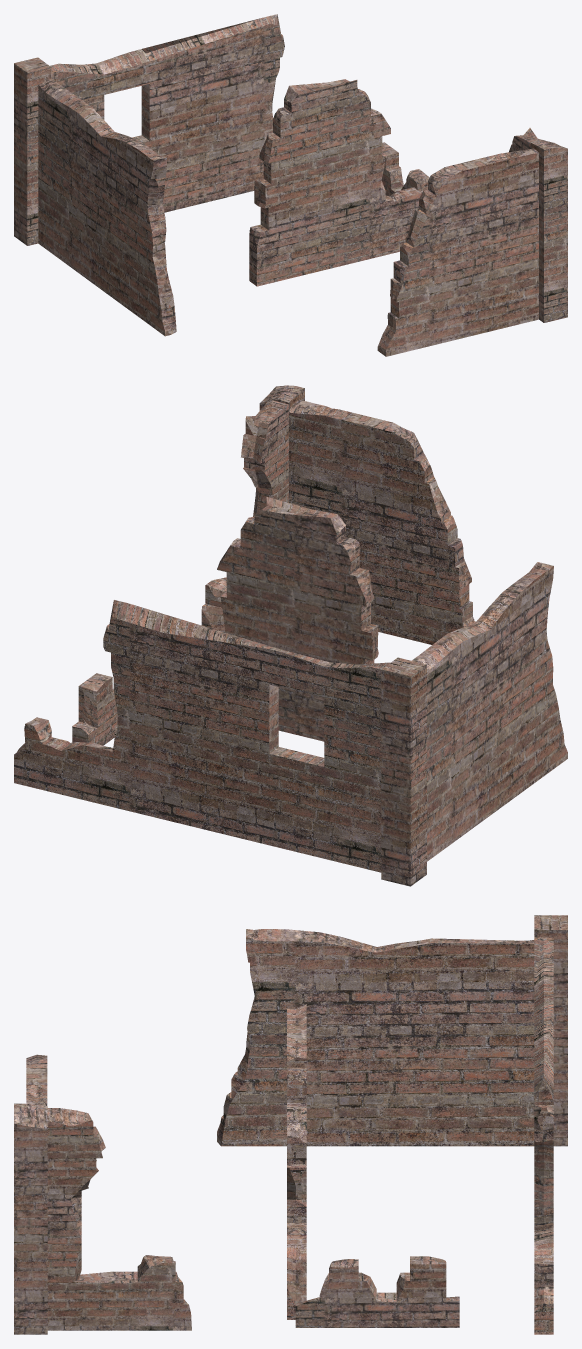
Rendered from nha2.fbx.
3 views of the same model, one above another, from view 1: azimuth 30°, elevation 25°; view 2: azimuth 150°, elevation 25°; view 3: azimuth 270°, elevation 25° (orthographic). The views are drawn at different scales.
Visible parts, largest first — view 1: Cube.003, Cube.005, Cube.002, Cube, Cube.006, Cube.001, Cube.004; view 2: Cube.002, Cube, Cube.005, Cube.003, Cube.001, Cube.007, Cube.004, Cube.006; view 3: Cube, Cube.007, Cube.004, Cube.002, Cube.006, Cube.003, Cube.001, Cube.005.
Part boxes in pixels (left/top/right/bottom): Cube.003: left=249, top=79, right=422, bottom=286; Cube.005: left=377, top=148, right=538, bottom=356; Cube.002: left=50, top=14, right=284, bottom=212; Cube: left=38, top=78, right=176, bottom=336; Cube.006: left=530, top=139, right=567, bottom=322; Cube.001: left=14, top=57, right=51, bottom=245; Cube.004: left=381, top=142, right=429, bottom=196; Cube.002: left=14, top=600, right=389, bottom=872; Cube: left=412, top=562, right=567, bottom=861; Cube.005: left=289, top=400, right=475, bottom=644; Cube.003: left=217, top=497, right=378, bottom=741; Cube.001: left=381, top=657, right=426, bottom=886; Cube.007: left=201, top=400, right=288, bottom=632; Cube.004: left=72, top=673, right=117, bottom=745; Cube.006: left=259, top=385, right=304, bottom=502; Cube: left=217, top=929, right=534, bottom=1146; Cube.007: left=47, top=1108, right=191, bottom=1330; Cube.004: left=295, top=1256, right=459, bottom=1327; Cube.002: left=534, top=937, right=553, bottom=1334; Cube.006: left=14, top=1103, right=47, bottom=1334; Cube.003: left=287, top=1004, right=306, bottom=1319; Cube.001: left=534, top=915, right=567, bottom=1146; Cube.005: left=26, top=1054, right=47, bottom=1105.
Size of the model in its own units: 502 by 268 by 580.
1 material, 1 textured.
